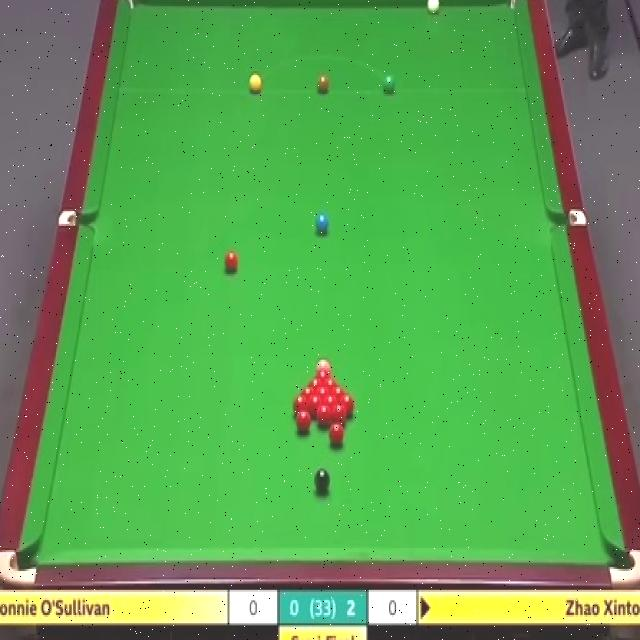black-ball: (314, 468, 331, 495)
blue-ball: (314, 212, 330, 236)
brown-ball: (316, 73, 329, 93)
green-ball: (382, 72, 396, 94)
pink-ball: (316, 357, 332, 372)
red-ball: (223, 249, 241, 278), (328, 424, 346, 447), (330, 404, 347, 426), (296, 409, 311, 432), (316, 404, 331, 426), (324, 396, 338, 416), (293, 394, 309, 411), (308, 395, 322, 414), (339, 396, 355, 412), (300, 385, 316, 396), (315, 387, 332, 396), (324, 377, 339, 387), (332, 387, 347, 396), (315, 370, 331, 378), (308, 378, 323, 386)
white-ball: (426, 0, 441, 17)
yellow-ball: (249, 73, 262, 94)
